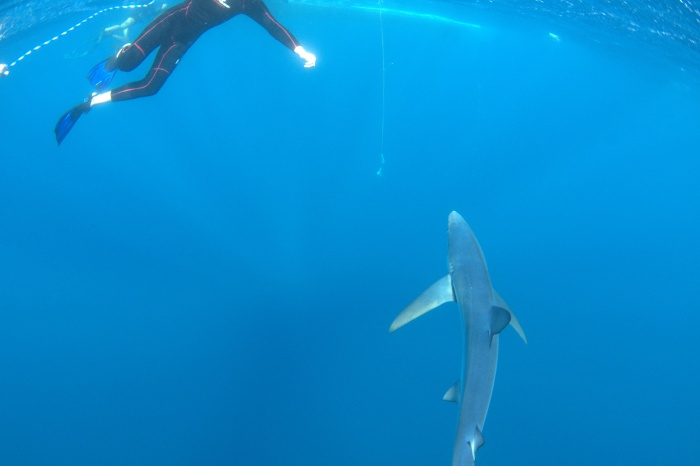Azul: (384, 224, 584, 464)
